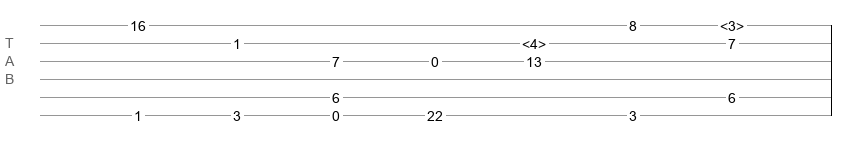0: (332, 108, 340, 118), (431, 54, 439, 64)
1: (134, 108, 142, 118), (233, 36, 241, 46)
13: (526, 54, 542, 64)
16: (130, 18, 146, 28)
22: (427, 108, 443, 118)
3: (233, 108, 241, 118), (629, 108, 637, 118)
6: (332, 90, 340, 100), (728, 90, 736, 100)
7: (332, 54, 340, 64), (728, 36, 736, 46)
8: (629, 18, 637, 28)
harmonic: (522, 36, 546, 46), (720, 18, 744, 28)
